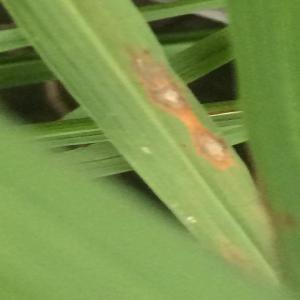Rice_Blast: (121, 41, 194, 117), (186, 125, 238, 170)
